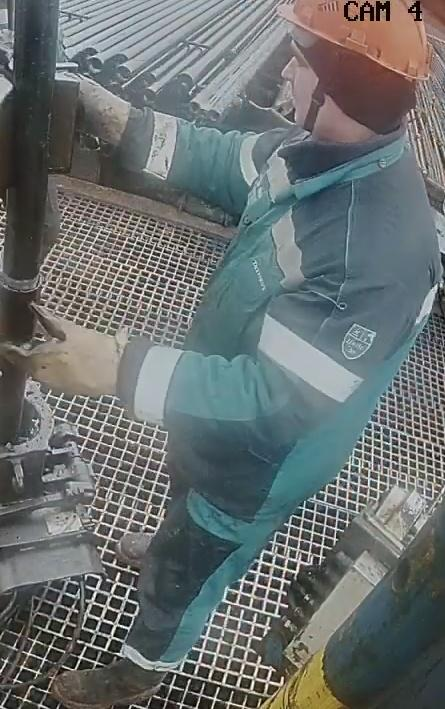gloves: (3, 301, 150, 398), (55, 75, 165, 154)
helmet: (275, 0, 433, 81)
vest: (162, 123, 442, 523)
